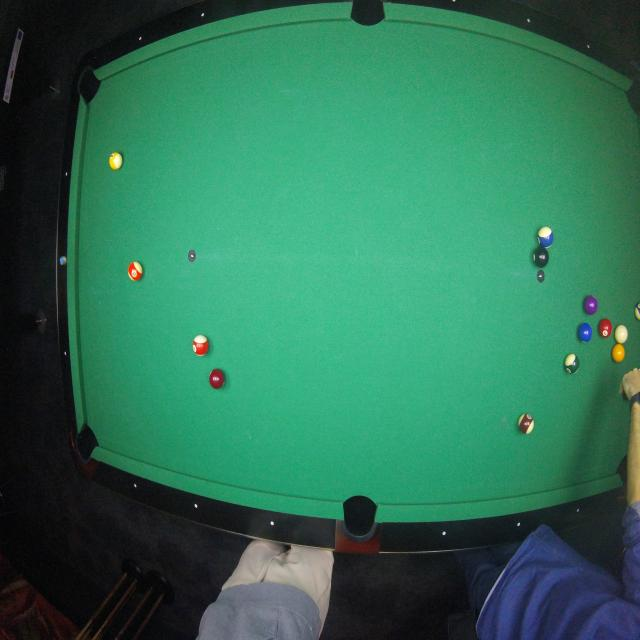cue ball: (615, 324, 629, 344)
other: (515, 411, 538, 437), (191, 332, 210, 359), (209, 365, 228, 391), (536, 228, 554, 250), (128, 260, 144, 284), (532, 248, 550, 269), (108, 149, 124, 171), (564, 354, 580, 375), (584, 294, 599, 316), (597, 318, 613, 338), (578, 322, 592, 344), (612, 344, 626, 362)
